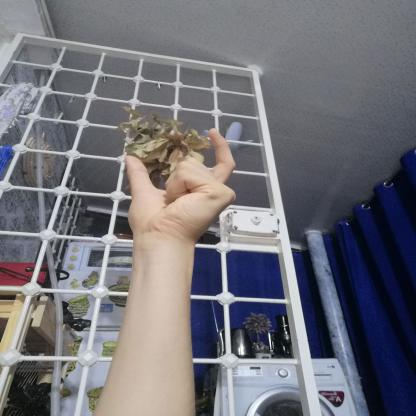NOON: (110, 116, 248, 258)
